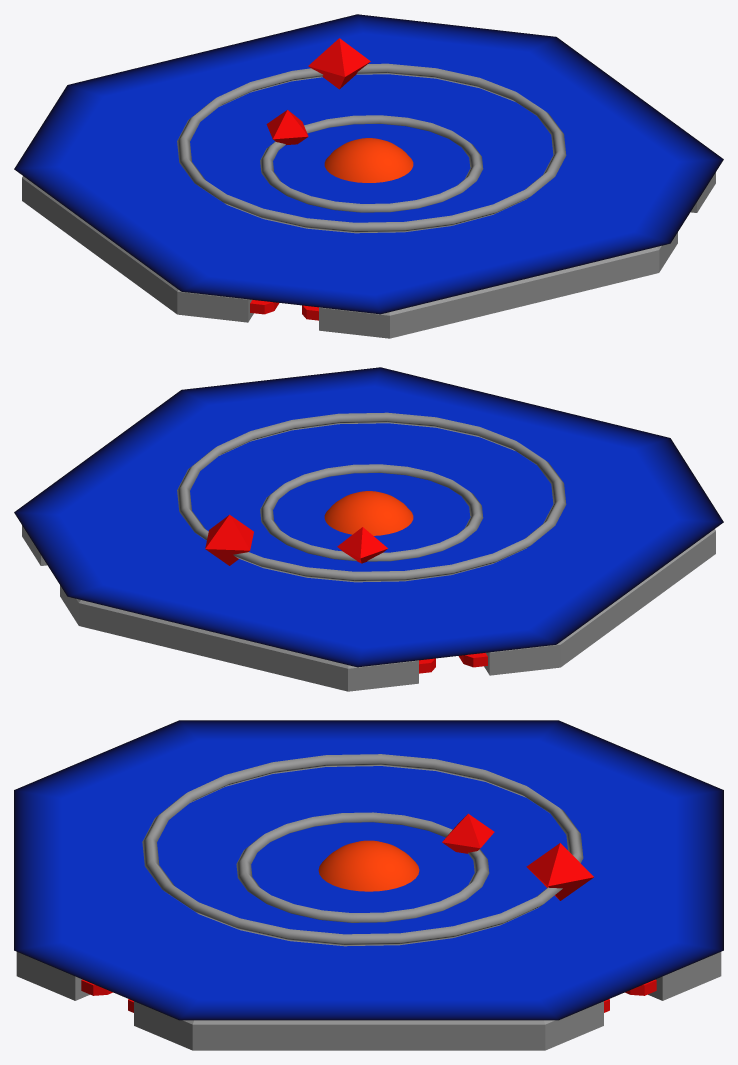
The model's file is EnemyLaserShield.FBX.
3 views of the same model, one above another, from view 1: azimuth 30°, elevation 25°; view 2: azimuth 150°, elevation 25°; view 3: azimuth 270°, elevation 25° (orthographic). The views are drawn at different scales.
Parts seen in each view (by area): view 1: Plane002, Torus003, Object002, Object003, Torus002, Sphere002; view 2: Plane002, Torus003, Object004, Object003, Torus002, Sphere002; view 3: Plane002, Object005, Torus003, Torus002, Sphere002, Object002, Object004.
Part boxes in pixels (x1,y1,x2,y2): Plane002: (14,14,723,314); Torus003: (177,38,566,233); Object002: (302,232,677,338); Object003: (22,176,279,322); Torus002: (260,110,483,212); Sphere002: (324,138,413,182); Plane002: (14,367,723,667); Torus003: (177,412,566,582); Object004: (60,585,435,691); Object003: (458,529,715,675); Torus002: (260,464,483,563); Sphere002: (324,491,413,535); Plane002: (14,720,723,1020); Object005: (128,999,609,1050); Torus003: (142,754,593,946); Torus002: (236,812,494,922); Sphere002: (318,840,419,891); Object002: (16,952,112,1000); Object004: (625,952,721,1000).
Size of the model in its own units: 47.48 by 10.69 by 47.48.
